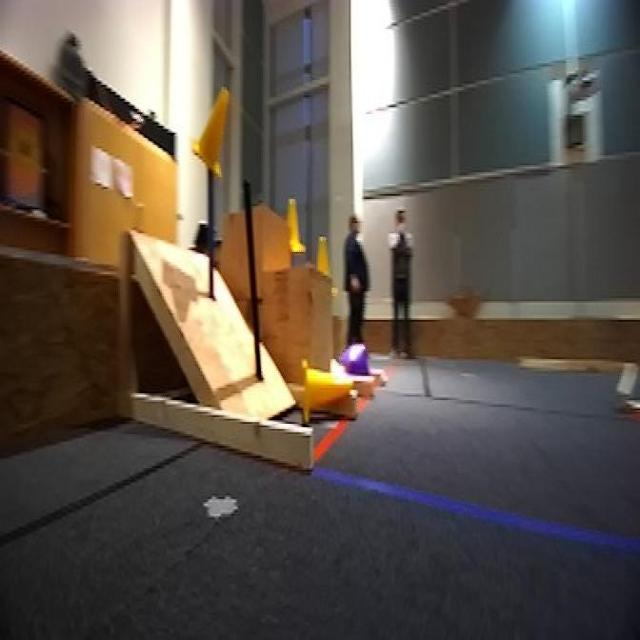frc_cone: (190, 89, 230, 182), (298, 361, 353, 420), (283, 198, 304, 255), (316, 238, 334, 279)
frc_cube: (344, 346, 371, 386)
